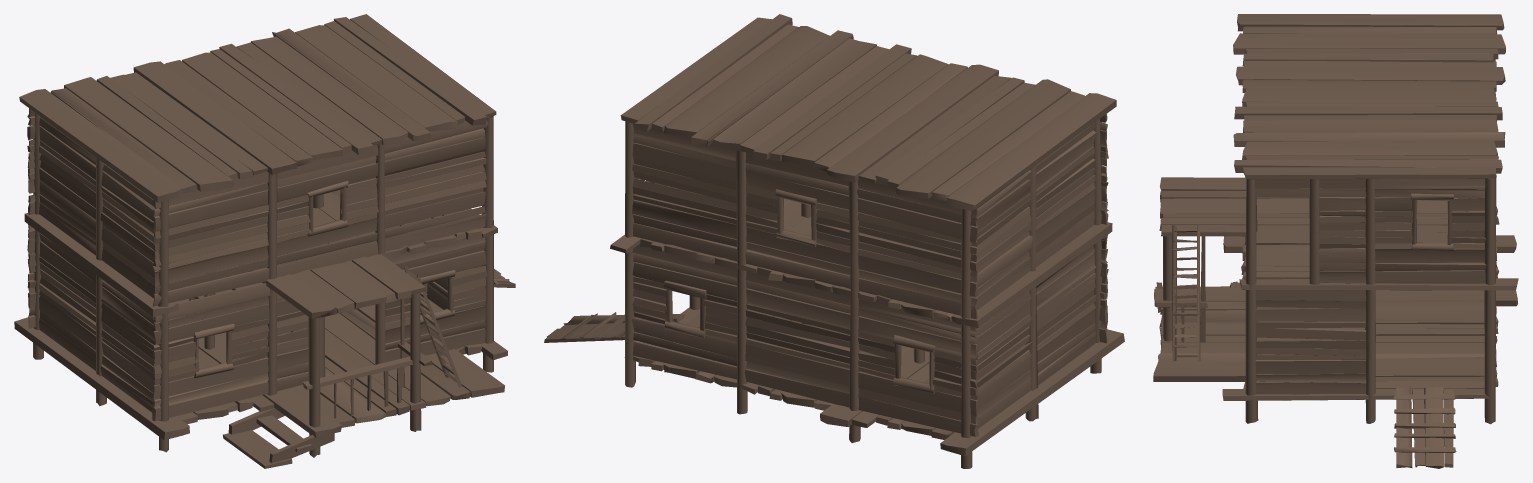
Rendered from -LOD0_hut_005.fbx.
3 views of the same model, side by side, from view 1: azimuth 30°, elevation 25°; view 2: azimuth 150°, elevation 25°; view 3: azimuth 270°, elevation 25° (orthographic). The views are drawn at different scales.
Parts seen in each view (by area): view 1: Cylinder.006; view 2: Cylinder.006; view 3: Cylinder.006.
Boxes of the visible parts, <box> form: Cylinder.006: <box>14,14,515,468</box>; Cylinder.006: <box>544,14,1124,468</box>; Cylinder.006: <box>1153,14,1518,468</box>.
Bounding box in the file's own units: 1803 × 1024 × 1345.
